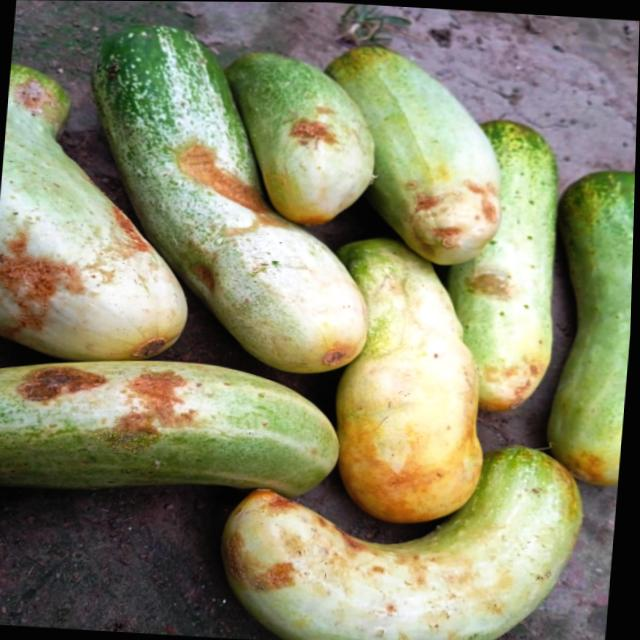Belly-Rot: (221, 483, 373, 616), (15, 356, 215, 454), (168, 122, 293, 244), (0, 224, 103, 342), (396, 172, 508, 265), (479, 345, 548, 410), (172, 233, 230, 301), (279, 98, 348, 154), (458, 247, 521, 307), (105, 197, 156, 261), (9, 68, 58, 125)
